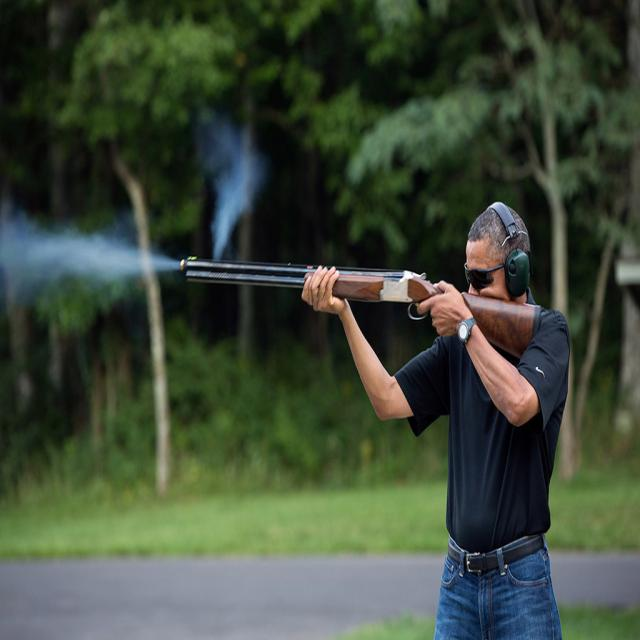heavy-weapon: (180, 256, 541, 360)
